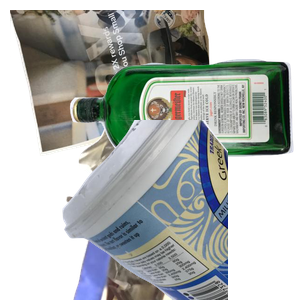glass: (67, 56, 300, 206)
paper: (10, 10, 233, 158)
plastic: (60, 120, 300, 300)
trash: (63, 120, 300, 300)
